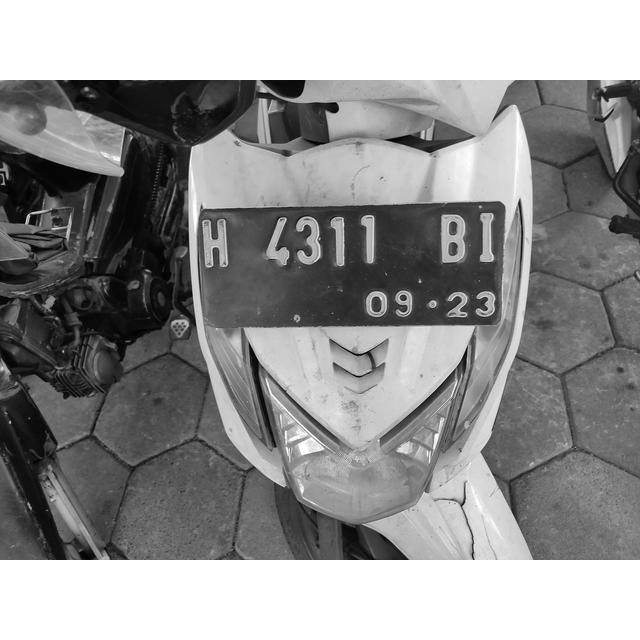license: (198, 211, 501, 321)
